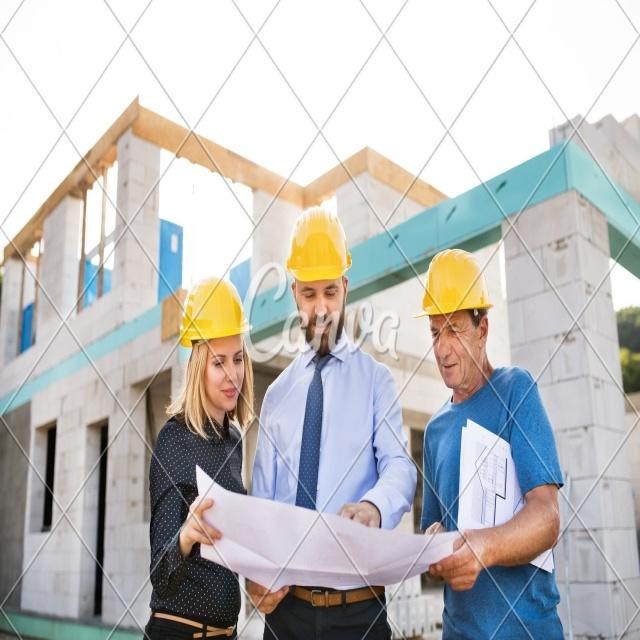helmet: (411, 329, 495, 522), (178, 367, 254, 557), (287, 272, 354, 471)
